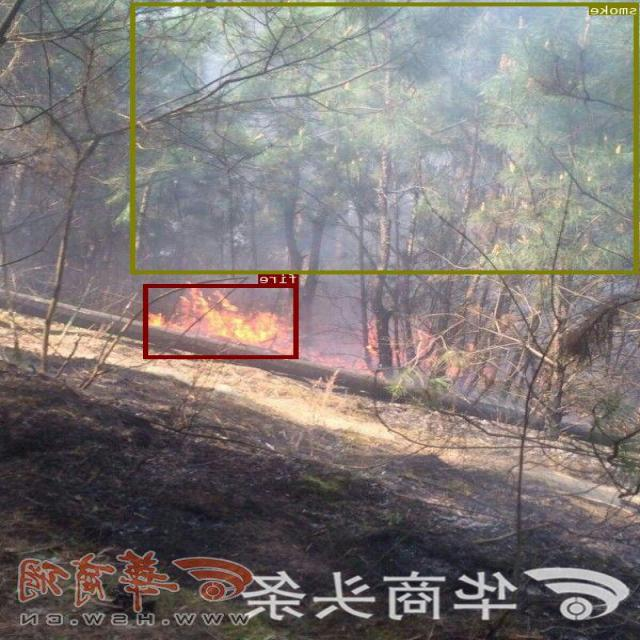fire: (144, 284, 300, 358)
smoke: (132, 2, 639, 274)
